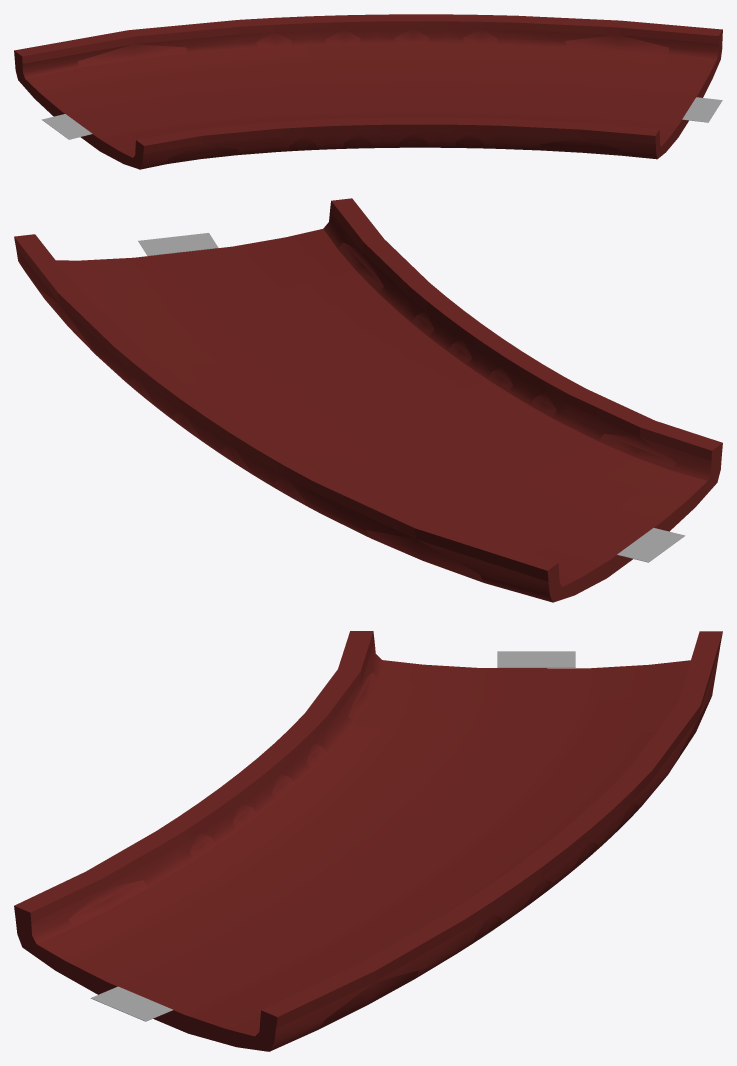
Rendered from FlatConnector45Right.fbx.
The picture shows the model from 3 angles, top to bottom: view 1: azimuth 30°, elevation 25°; view 2: azimuth 150°, elevation 25°; view 3: azimuth 270°, elevation 25°; orthographic projection. The views are drawn at different scales.
Parts seen in each view (by area): view 1: pPipe3, pasted__pCube3, pasted__pCube39; view 2: pPipe3, pasted__pCube39, pasted__pCube3; view 3: pPipe3, pasted__pCube39, pasted__pCube3.
Boxes of the visible parts, bbox=[...] form: pPipe3: bbox=[14, 14, 722, 169]; pasted__pCube3: bbox=[42, 114, 92, 139]; pasted__pCube39: bbox=[682, 97, 722, 122]; pPipe3: bbox=[14, 198, 722, 602]; pasted__pCube39: bbox=[138, 233, 218, 255]; pasted__pCube3: bbox=[617, 528, 685, 562]; pPipe3: bbox=[14, 631, 722, 1051]; pasted__pCube39: bbox=[90, 986, 172, 1021]; pasted__pCube3: bbox=[497, 651, 575, 667].
Size of the model in its own units: 24.37 by 1.53 by 18.14.
